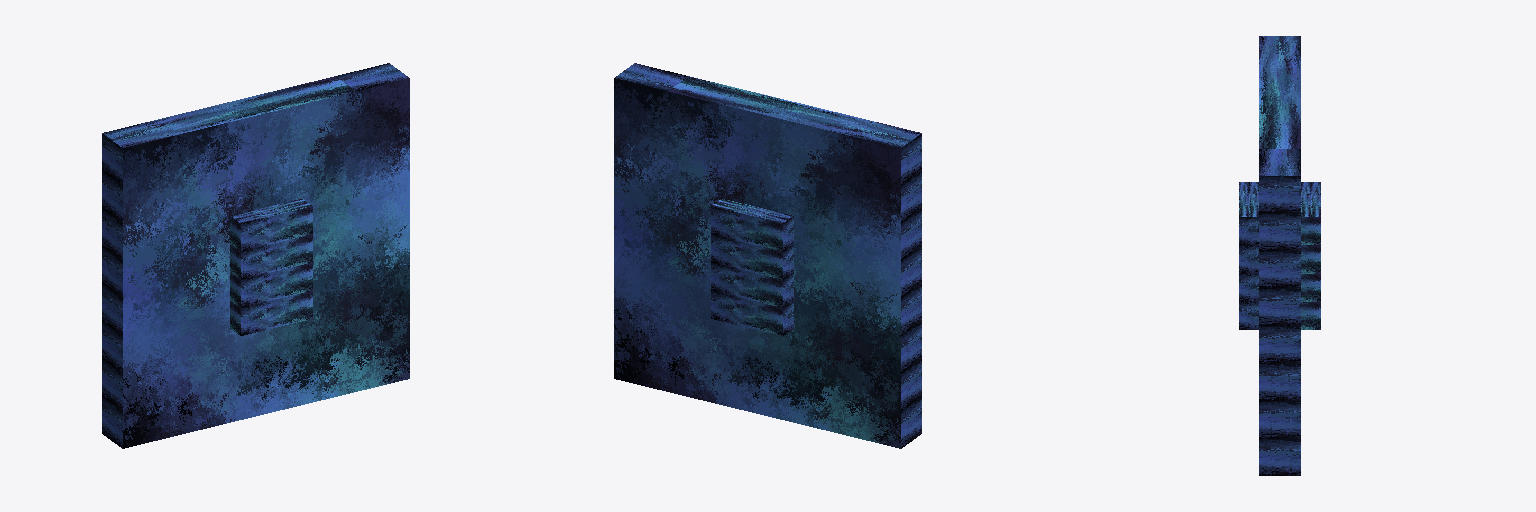
3 renders of one model, left to right at view 1: azimuth 30°, elevation 25°; view 2: azimuth 150°, elevation 25°; view 3: azimuth 270°, elevation 25°, orthographic.
Parts seen in each view (by area): view 1: cuboid; view 2: cuboid; view 3: cuboid.
Part boxes in pixels (x1,y1,x2,y2): cuboid: (102, 63, 409, 448); cuboid: (614, 63, 921, 448); cuboid: (1239, 36, 1320, 475).
Size of the model in its own units: 1 by 1 by 0.25.
2 materials, 1 textured.